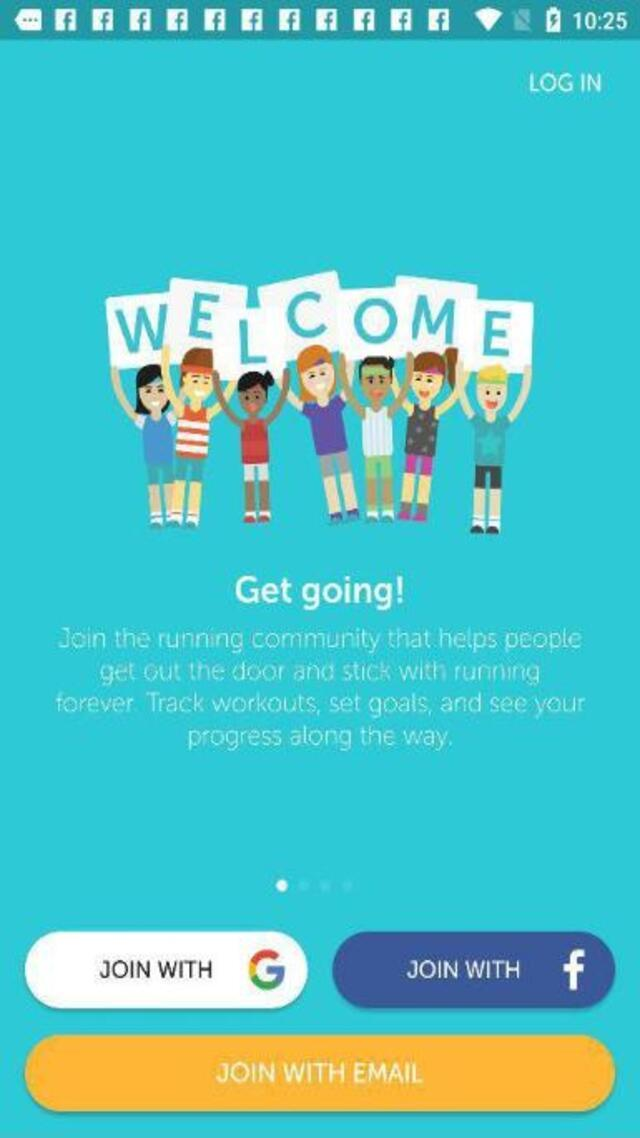Icon: (244, 948, 286, 993), (558, 947, 590, 993)
Image: (101, 266, 534, 534)
Text: (49, 687, 590, 722), (54, 626, 591, 655), (94, 660, 546, 689), (185, 724, 459, 754), (203, 1056, 438, 1088), (235, 575, 403, 609), (92, 951, 216, 985), (401, 953, 525, 982), (528, 71, 602, 92)
TextButton: (23, 1034, 615, 1110), (332, 930, 616, 1008), (24, 930, 308, 1008)
